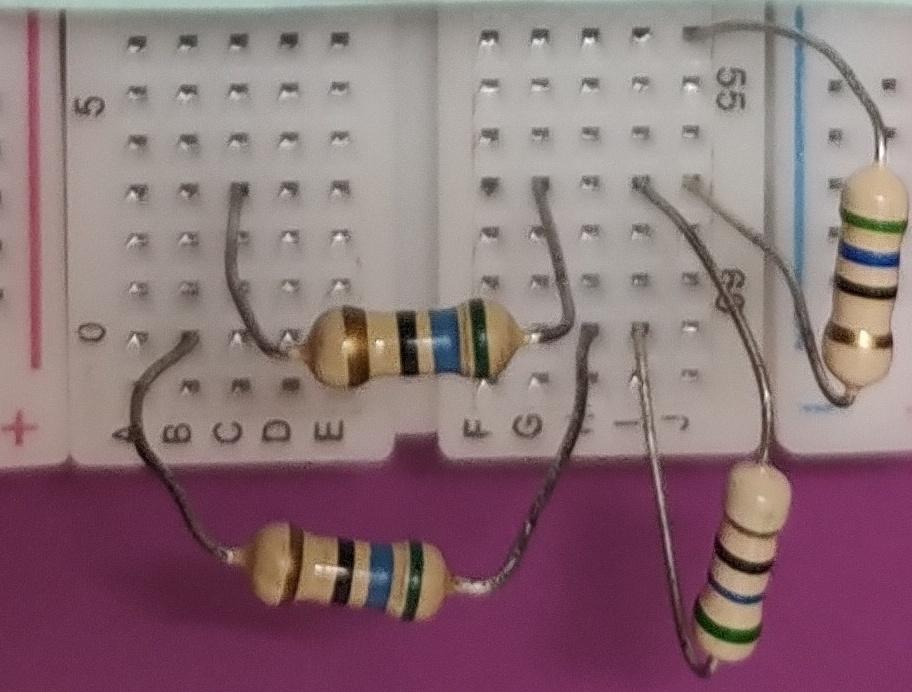resistor: (225, 512, 470, 631), (282, 290, 532, 390), (685, 450, 797, 668), (822, 163, 912, 398)
